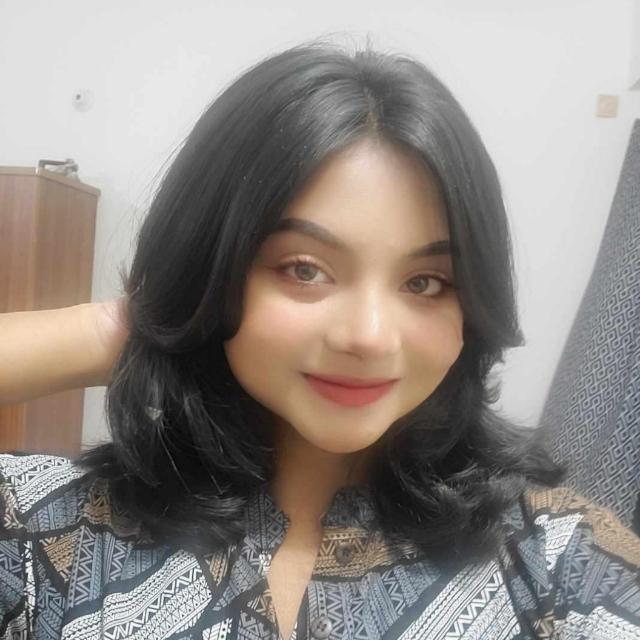happy: (113, 85, 628, 583)
